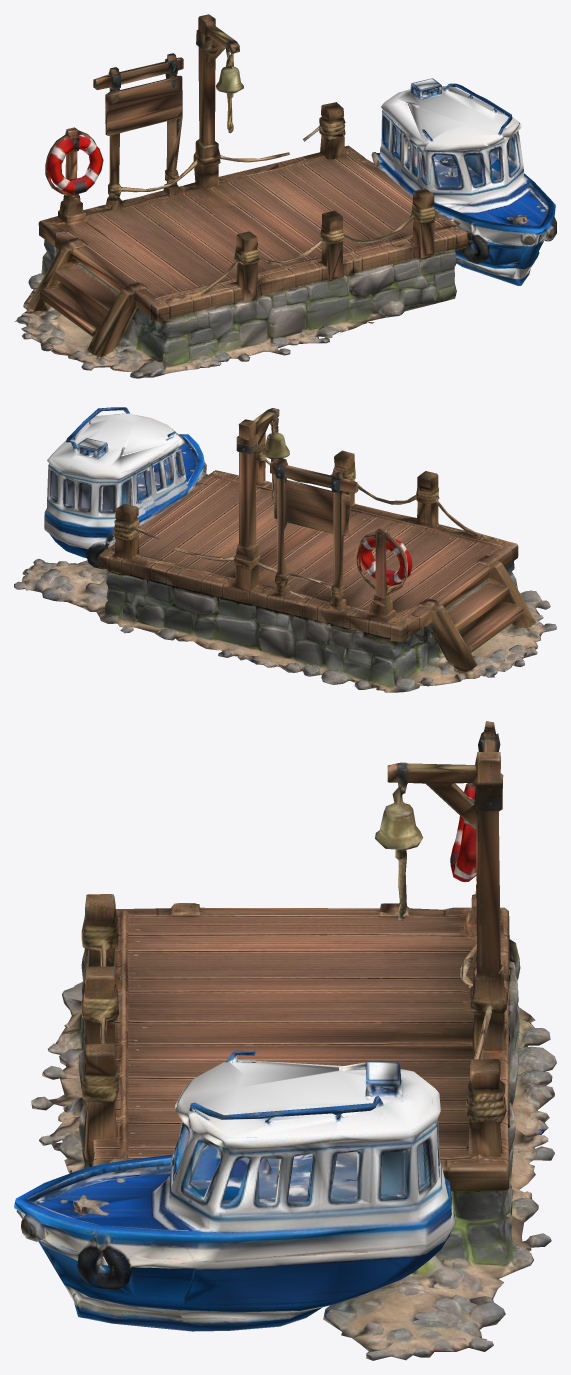
The model's file is city_van_akdamar_jetty.glb.
3 views of the same model, one above another, from view 1: azimuth 30°, elevation 25°; view 2: azimuth 150°, elevation 25°; view 3: azimuth 270°, elevation 25° (orthographic). The views are drawn at different scales.
Parts seen in each view (by area): view 1: Mesh1.0; view 2: Mesh1.0; view 3: Mesh1.0.
Part boxes in pixels (x1,y1,x2,y2): Mesh1.0: (15, 14, 556, 378); Mesh1.0: (14, 407, 556, 692); Mesh1.0: (14, 721, 556, 1360).
Size of the model in its own units: 3.96 by 1.8 by 2.23.
1 material, 1 textured.
